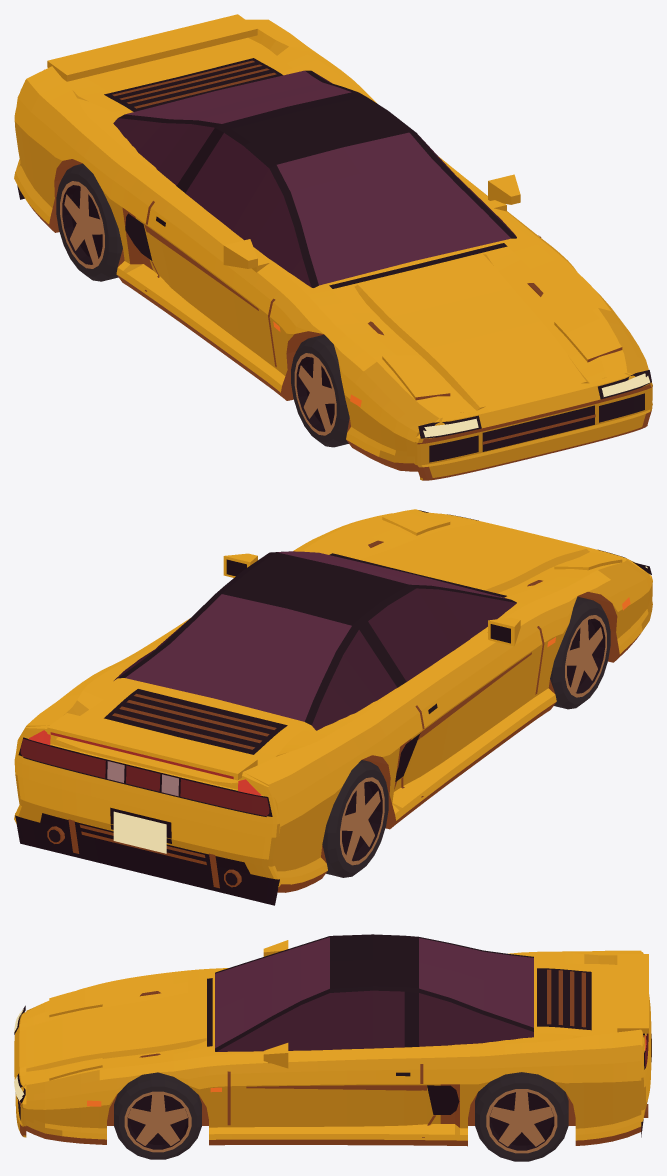
Rendered from nsx_v1.glb.
The picture shows the model from 3 angles, top to bottom: view 1: azimuth 30°, elevation 25°; view 2: azimuth 150°, elevation 25°; view 3: azimuth 270°, elevation 25°; orthographic projection. The views are drawn at different scales.
Parts seen in each view (by area): view 1: body, glass, wheel_RR, wheel_FR, lights; view 2: body, glass, lights, wheel_RR, wheel_FR; view 3: body, glass, wheel_RL, wheel_FL, lights.
Boxes of the visible parts, x1,y1,x2,y2 form: body: [14, 14, 652, 480]; glass: [113, 70, 516, 287]; wheel_RR: [56, 163, 122, 281]; wheel_FR: [291, 334, 349, 447]; lights: [44, 69, 651, 438]; body: [14, 509, 652, 905]; glass: [114, 551, 516, 730]; lights: [20, 510, 651, 815]; wheel_RR: [322, 760, 388, 877]; wheel_FR: [550, 596, 610, 709]; body: [14, 940, 651, 1146]; glass: [215, 934, 533, 1051]; wheel_RL: [475, 1072, 568, 1161]; wheel_FL: [114, 1072, 201, 1159]; lights: [14, 1005, 648, 1106].
Bounding box in the file's own units: 1.86 × 1.15 × 4.44.
